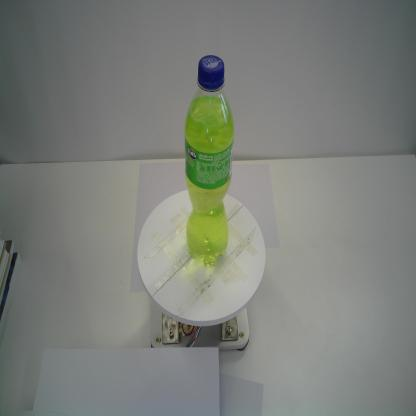Drink: (183, 53, 237, 271)
